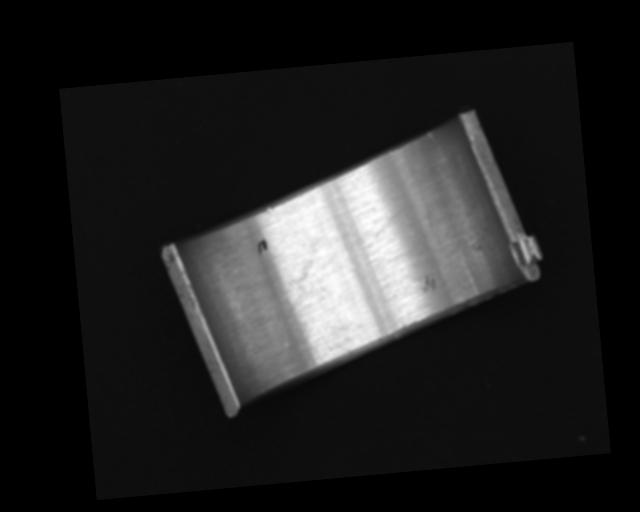blot: (282, 255, 323, 303), (256, 236, 268, 256)
bruise: (421, 274, 437, 294), (265, 206, 273, 214)
nick: (361, 207, 411, 250), (427, 130, 437, 142)
